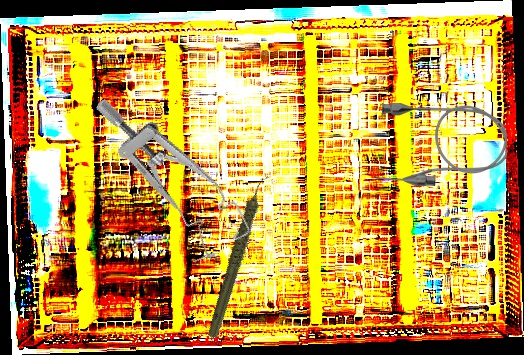Cannula: (374, 103, 507, 186)
Handpiece: (176, 173, 303, 341)
Speculum: (92, 67, 255, 274)
